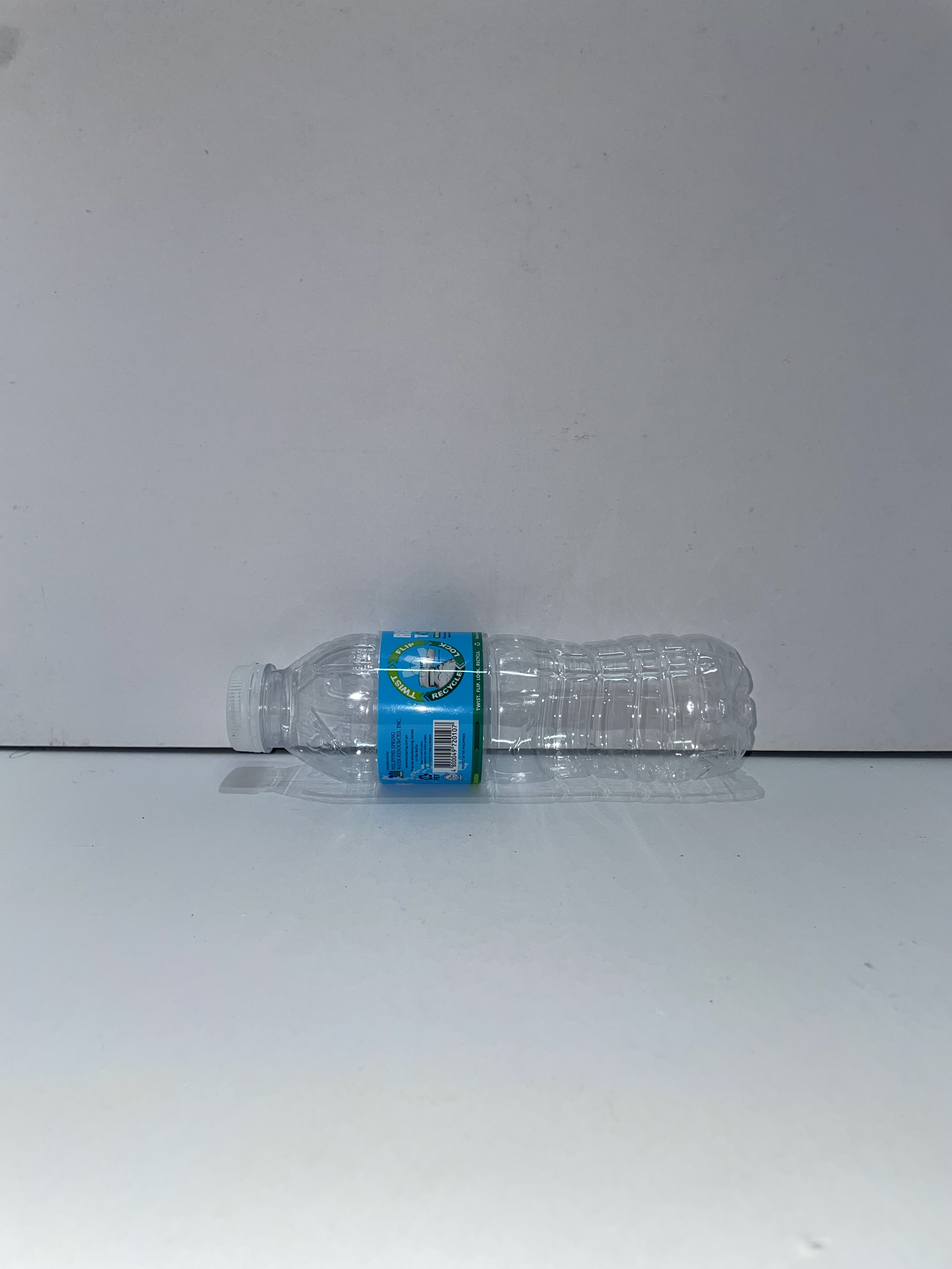natures spring 500ml: (226, 631, 756, 787)
